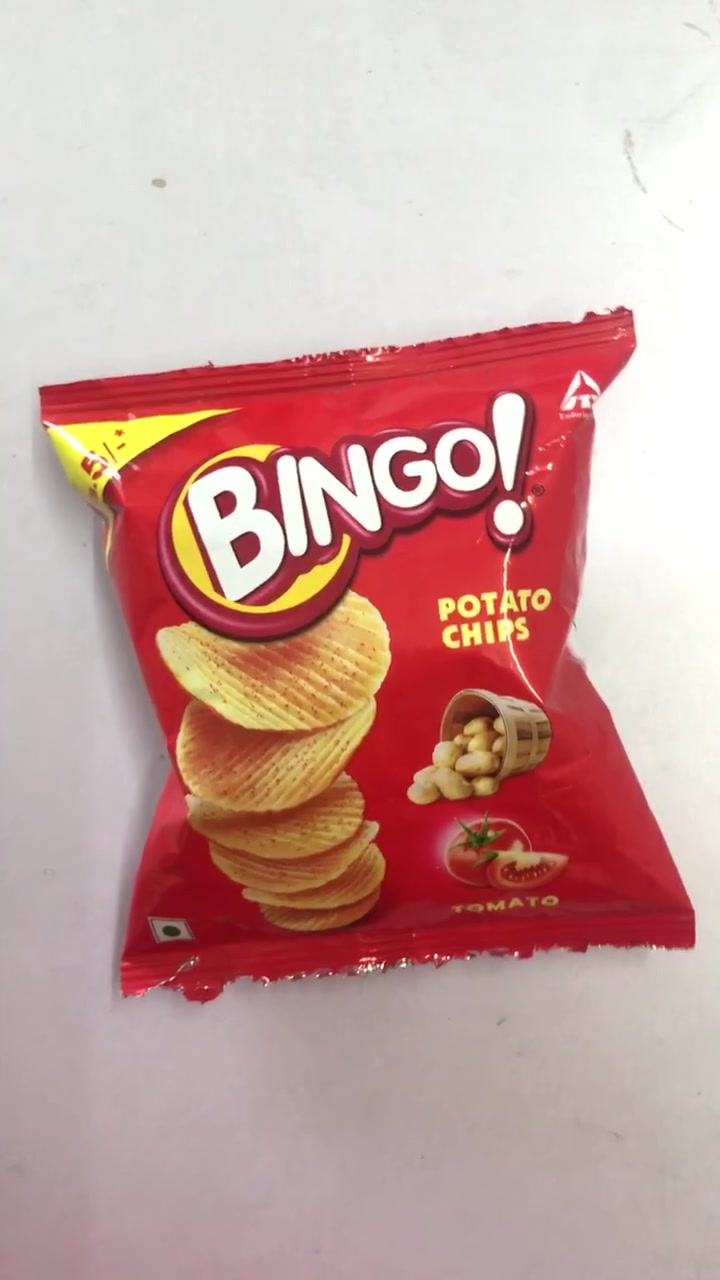Bingo: (45, 346, 695, 962)
